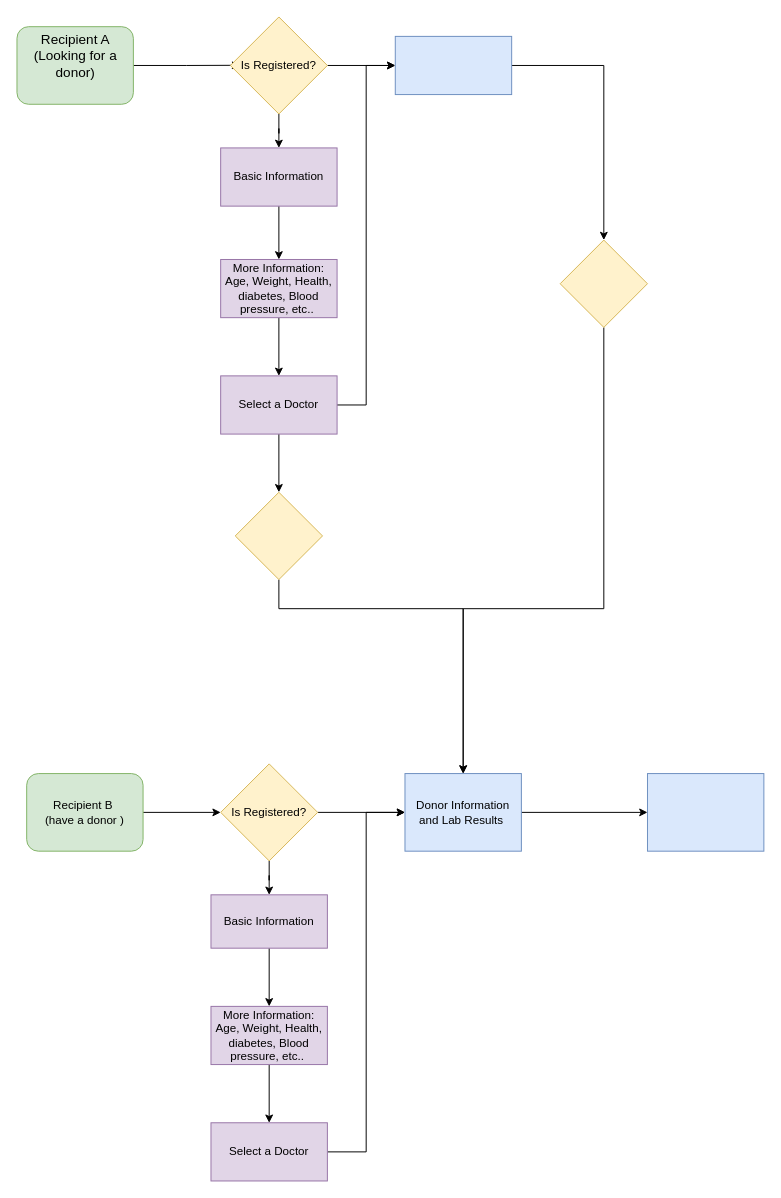
The diagram is 781 pixels wide and 1198 high, and some of its shapes have lost their labels. Each missing label, with the centre of its shape:
Find a Donor: point (603, 283)
Have a Donor: point (278, 535)
Organ info Success Rate Stats and etc.. Doctor opinion..: point (705, 812)
Show Statistics Expected waiting time, How many Donors are out there: point (453, 65)
